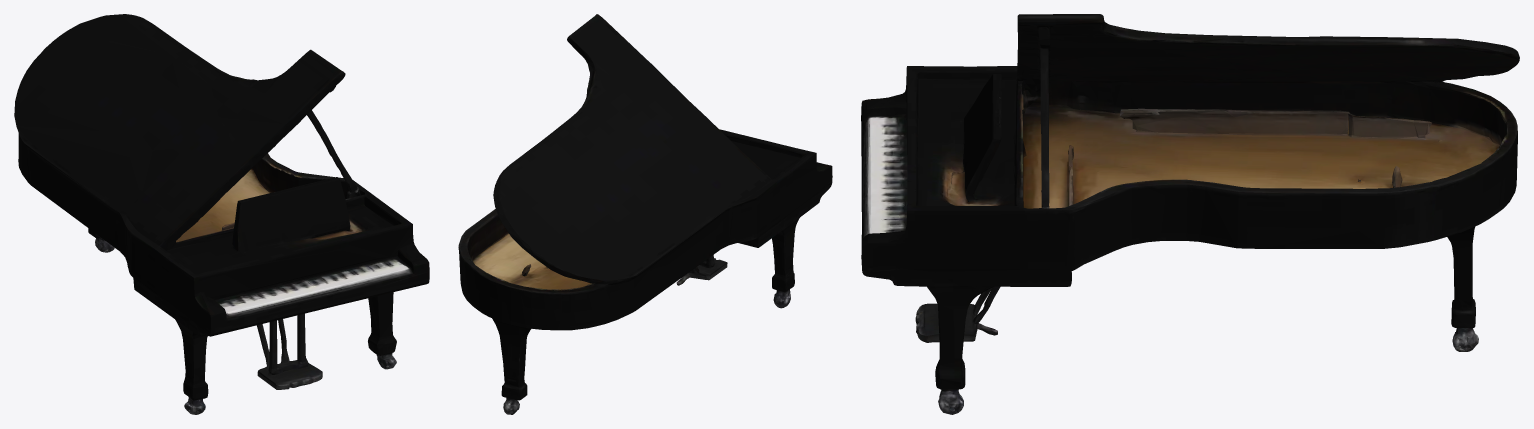
The model's file is grand_piano_black.glb.
The picture shows the model from 3 angles, left to right: view 1: azimuth 30°, elevation 25°; view 2: azimuth 150°, elevation 25°; view 3: azimuth 270°, elevation 25°; orthographic projection. The views are drawn at different scales.
Visible parts, largest first — view 1: geometry_0; view 2: geometry_0; view 3: geometry_0.
Part boxes in pixels (x1,y1,x2,y2): geometry_0: (14, 14, 429, 414); geometry_0: (458, 14, 832, 414); geometry_0: (861, 14, 1519, 414).
Size of the model in its own units: 0.5224 by 0.6448 by 0.9979.
1 material, 1 textured.
